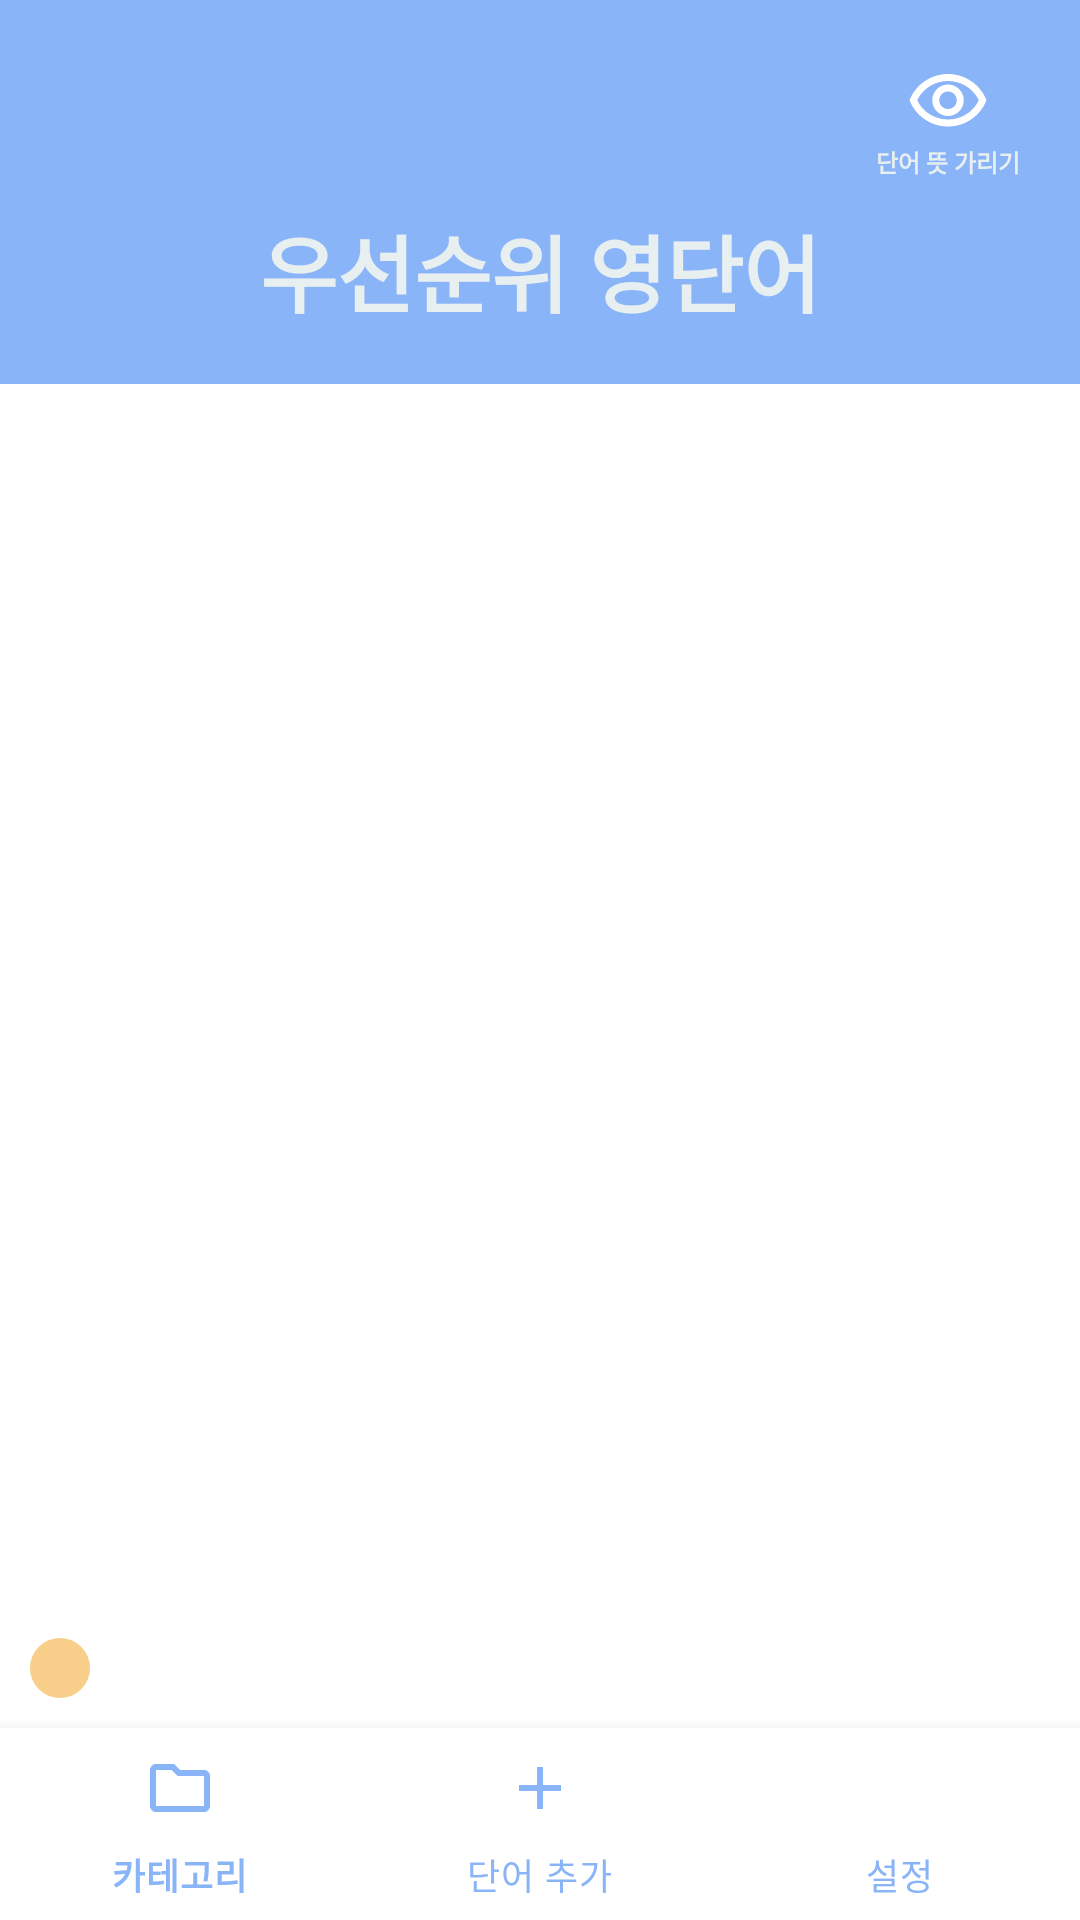

Screen size 1080px×1920px. Icon name, then its center in pixels as [x,y]:
visibility: [948,100]
